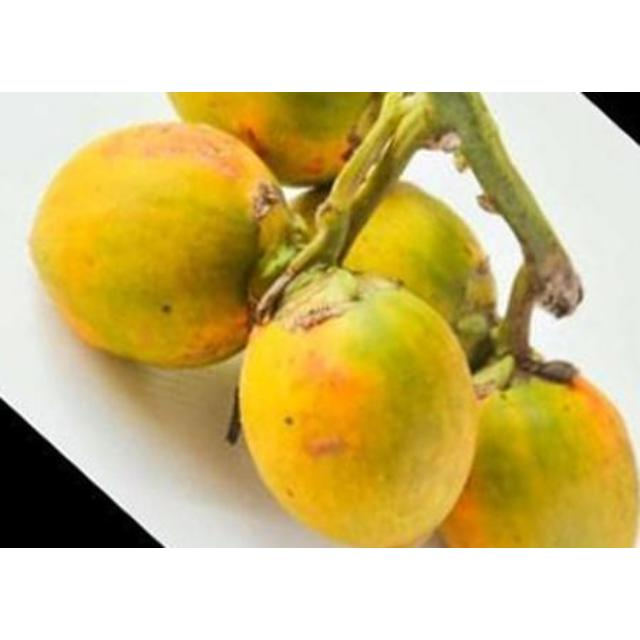good: (240, 272, 476, 546), (29, 121, 287, 367), (436, 357, 636, 547), (289, 182, 489, 346), (162, 94, 390, 186)
